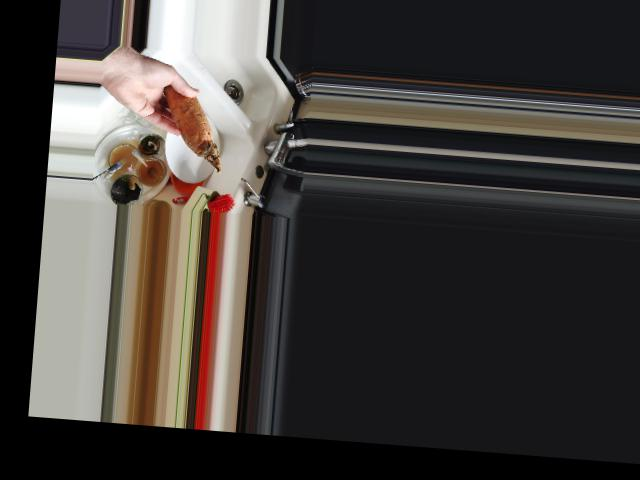sweet_potato: (152, 77, 228, 174)
